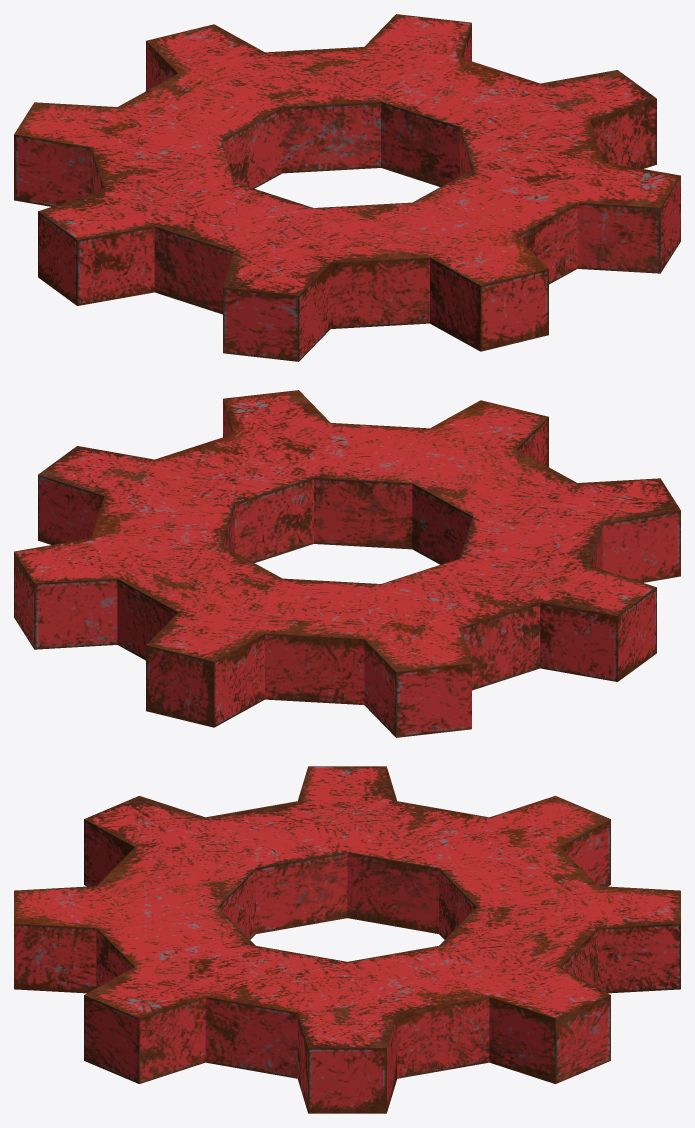
Rendered from HAL_MsMetal.fbx.
3 views of the same model, one above another, from view 1: azimuth 30°, elevation 25°; view 2: azimuth 150°, elevation 25°; view 3: azimuth 270°, elevation 25° (orthographic).
Visible parts, largest first — view 1: Metal; view 2: Metal; view 3: Metal.
Part boxes in pixels (x1=…): Metal: x1=14, y1=14, x2=680, y2=361; Metal: x1=14, y1=390, x2=680, y2=737; Metal: x1=14, y1=766, x2=680, y2=1113.
Size of the model in its own units: 184 by 20 by 184.
Materials: 1 (1 with a texture image).
